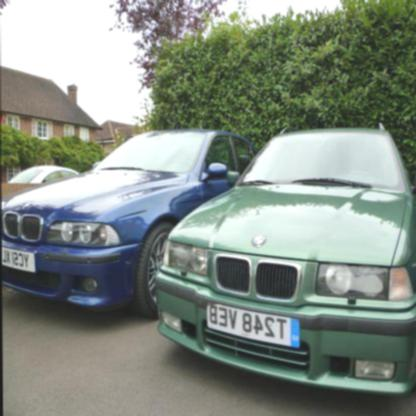License_Plate: (206, 302, 300, 349), (2, 247, 36, 274)
